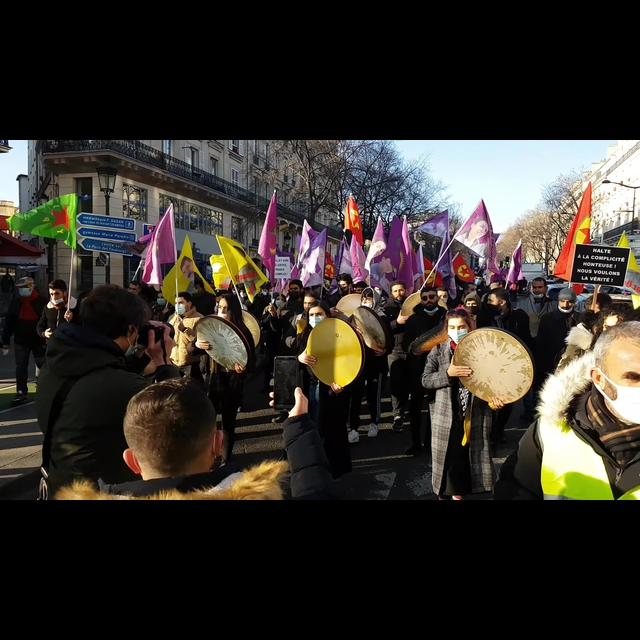YPJ: (6, 194, 78, 251)
